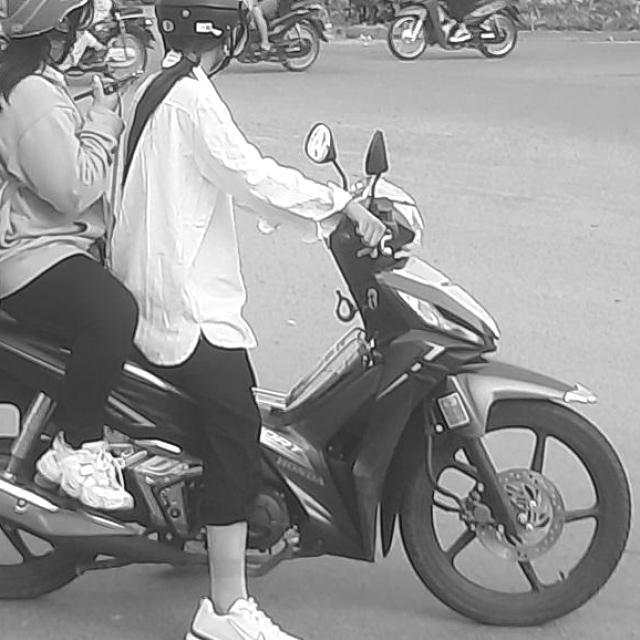Helmet: (152, 0, 253, 75), (0, 0, 103, 66)
